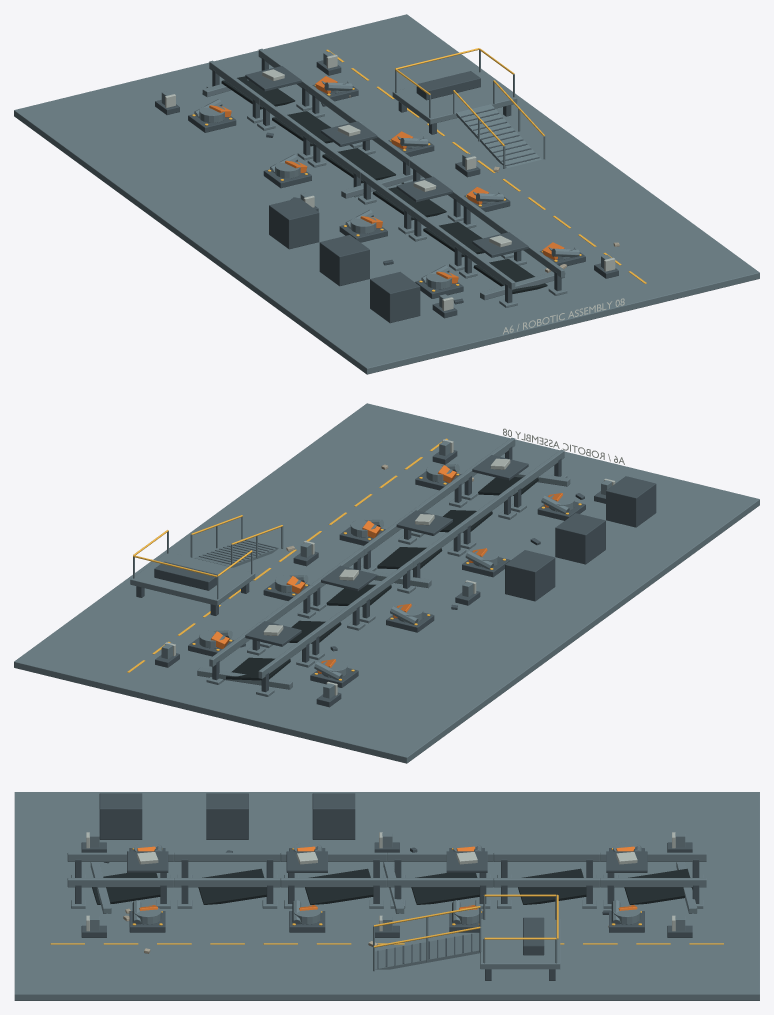
The model's file is robotic_assembly_line_d3.glb.
3 renders of one model, top to bottom at view 1: azimuth 30°, elevation 25°; view 2: azimuth 150°, elevation 25°; view 3: azimuth 270°, elevation 25°, orthographic. The views are drawn at different scales.
Visible parts, largest first — view 1: Assembly hall deck.003, Operator platform.003, Human access ramp.003, Parts feeder cabinet.010, Parts feeder cabinet.009, Parts feeder cabinet.011, Ruined console, Collapsed belt panel.003, Collapsed belt panel, Collapsed belt panel.001, Collapsed belt panel.004, Fixture pallet.012 (+6 smaller); view 2: Assembly hall deck.003, Operator platform.003, Parts feeder cabinet.011, Parts feeder cabinet.010, Parts feeder cabinet.009, Ruined console, Human access ramp.003, Collapsed belt panel.005, Fixture pallet.013, Fixture pallet.014, Fixture pallet.015, Fixture pallet.012 (+3 smaller); view 3: Assembly hall deck.003, Operator platform.003, Parts feeder cabinet.009, Parts feeder cabinet.011, Human access ramp.003, Parts feeder cabinet.010, Collapsed belt panel.002, Collapsed belt panel.001, Collapsed belt panel.004, Collapsed belt panel.003, Collapsed belt panel.005, Collapsed belt panel (+22 smaller).
Boxes of the visible parts, box(x1,y1,x2,y2) form: Assembly hall deck.003: box(14, 14, 759, 374); Operator platform.003: box(392, 71, 517, 124); Human access ramp.003: box(456, 104, 541, 167); Parts feeder cabinet.010: box(319, 235, 369, 286); Parts feeder cabinet.009: box(370, 272, 420, 323); Parts feeder cabinet.011: box(269, 198, 319, 249); Ruined console: box(416, 71, 480, 100); Collapsed belt panel.003: box(322, 148, 395, 183); Collapsed belt panel: box(473, 259, 547, 293); Collapsed belt panel.001: box(423, 222, 484, 257); Collapsed belt panel.004: box(272, 111, 332, 146); Fixture pallet.012: box(472, 232, 528, 257); Assembly hall deck.003: box(14, 403, 759, 763); Operator platform.003: box(130, 552, 255, 605); Parts feeder cabinet.011: box(505, 550, 555, 601); Parts feeder cabinet.010: box(555, 513, 605, 564); Parts feeder cabinet.009: box(606, 476, 656, 527); Ruined console: box(154, 561, 217, 590); Human access ramp.003: box(194, 540, 278, 567); Collapsed belt panel.005: box(226, 657, 290, 680); Fixture pallet.013: box(396, 510, 452, 535); Fixture pallet.014: box(321, 565, 377, 591); Fixture pallet.015: box(245, 621, 301, 646); Fixture pallet.012: box(472, 455, 528, 480); Assembly hall deck.003: box(14, 792, 759, 1000); Operator platform.003: box(480, 919, 560, 969); Parts feeder cabinet.009: box(99, 793, 142, 839); Parts feeder cabinet.011: box(312, 793, 355, 839); Human access ramp.003: box(375, 932, 480, 969); Parts feeder cabinet.010: box(206, 793, 248, 839); Collapsed belt panel.002: box(305, 868, 373, 904); Collapsed belt panel.001: box(198, 868, 266, 904); Collapsed belt panel.004: box(518, 868, 586, 904); Collapsed belt panel.003: box(411, 873, 479, 904); Collapsed belt panel.005: box(624, 868, 692, 904); Collapsed belt panel: box(92, 873, 160, 904).
Size of the model in its own units: 18 by 2.12 by 28.02.
